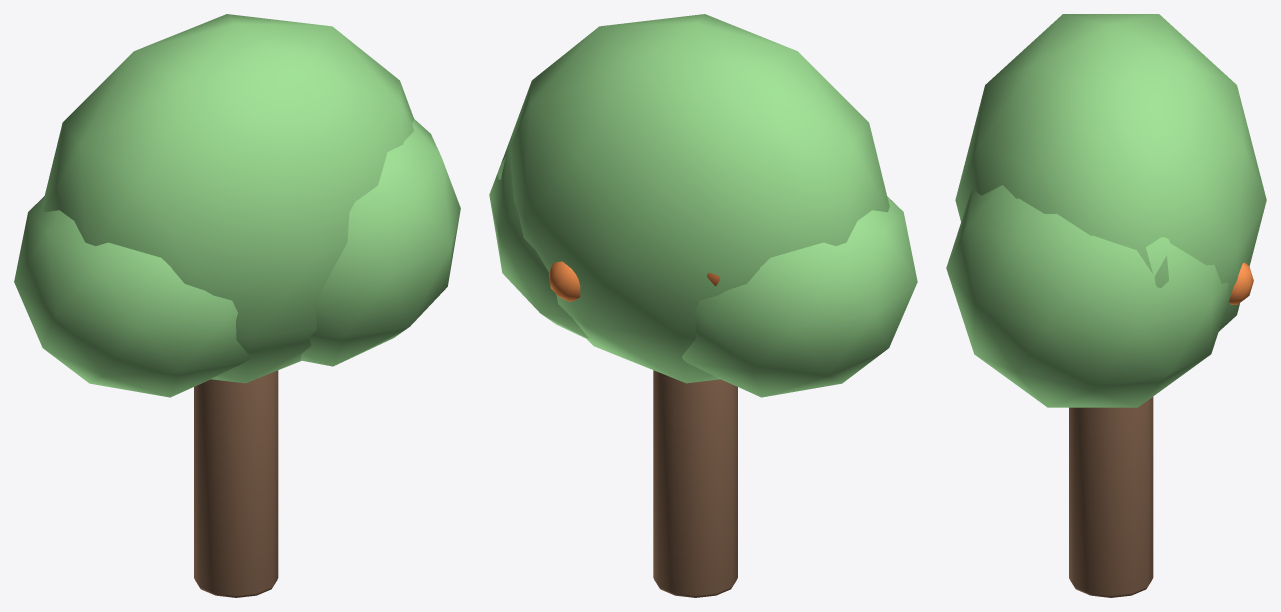
The model's file is Tree.fbx.
The picture shows the model from 3 angles, left to right: view 1: azimuth 30°, elevation 25°; view 2: azimuth 150°, elevation 25°; view 3: azimuth 270°, elevation 25°; orthographic projection.
Visible parts, largest first — view 1: Crown, Crown.001, Crown.002, Trunk; view 2: Crown, Crown.001, Trunk, Crown.002, Fruit.001; view 3: Crown, Crown.002, Trunk, Fruit.001.
Part boxes in pixels (box(x1,y1,x2,y2)): Crown: box(42, 14, 413, 383); Crown.001: box(14, 196, 249, 397); Crown.002: box(301, 119, 460, 366); Trunk: box(194, 370, 278, 597); Crown: box(497, 14, 889, 383); Crown.001: box(682, 196, 917, 397); Trunk: box(653, 370, 737, 597); Crown.002: box(489, 137, 589, 338); Fruit.001: box(549, 261, 580, 301); Crown: box(955, 14, 1266, 331); Crown.002: box(946, 185, 1229, 407); Trunk: box(1069, 397, 1153, 597); Fruit.001: box(1229, 262, 1253, 304).
Size of the model in its own units: 2.47 by 3.35 by 1.75.
